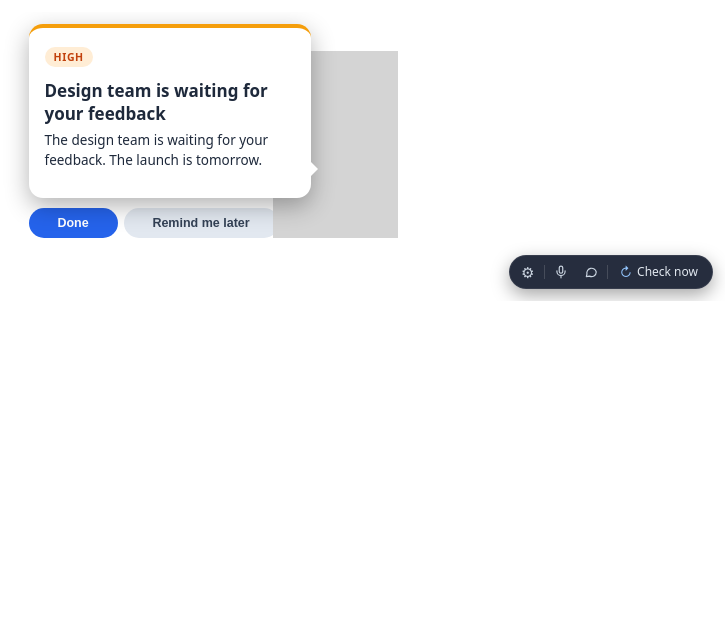
Test case: desktop overlay › opens and closes the Settings panel via the toggle button (Phase 4.3)
expect the element with test id "intervention-card" is shown: met, box [28,24,398,238]
Click the button named "Settings".
click(528, 272)  # box [514,259,542,285]
(page scrolled)
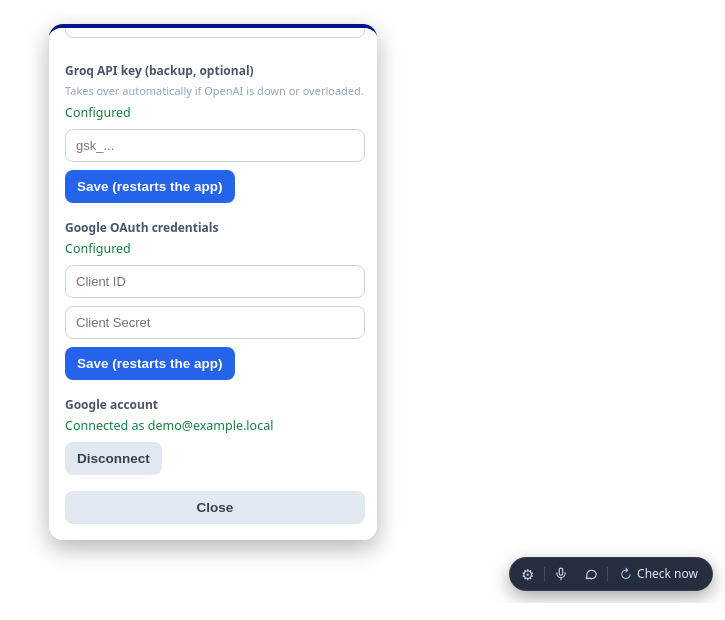
expect the element with test id "settings-card" is shown: met, box [49,24,377,540]
expect the element with test id "intervention-card" is gone: met
Click the button "Close".
click(215, 508)  # box [65,491,365,524]
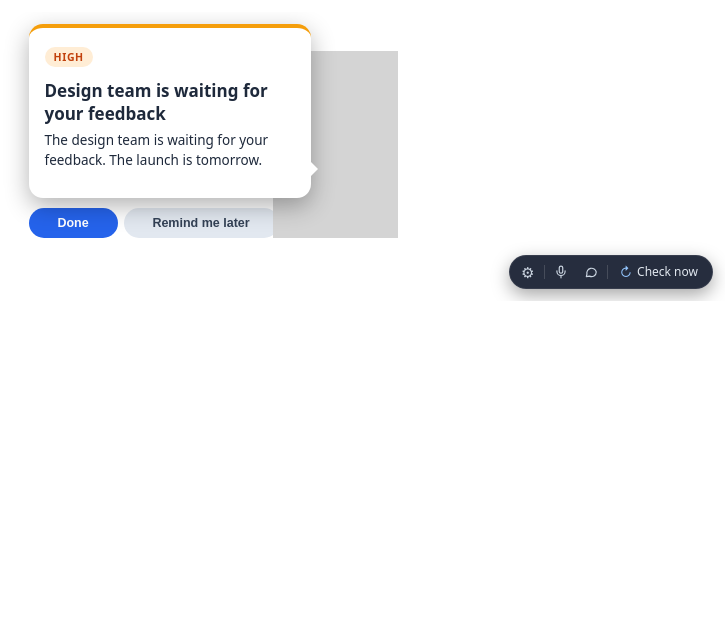
expect the element with test id "settings-card" is gone: met
expect the element with test id "intervention-card" is shown: met, box [28,24,398,238]
